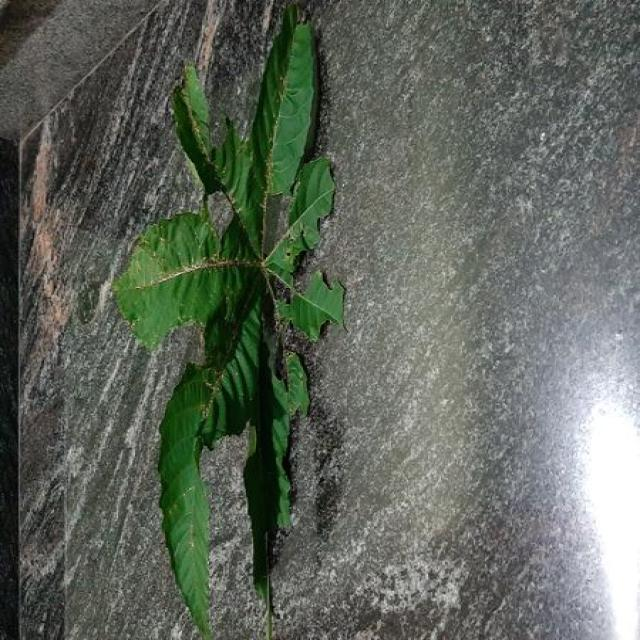alternaria blight: (115, 8, 343, 637)
castor: (115, 8, 343, 636)
